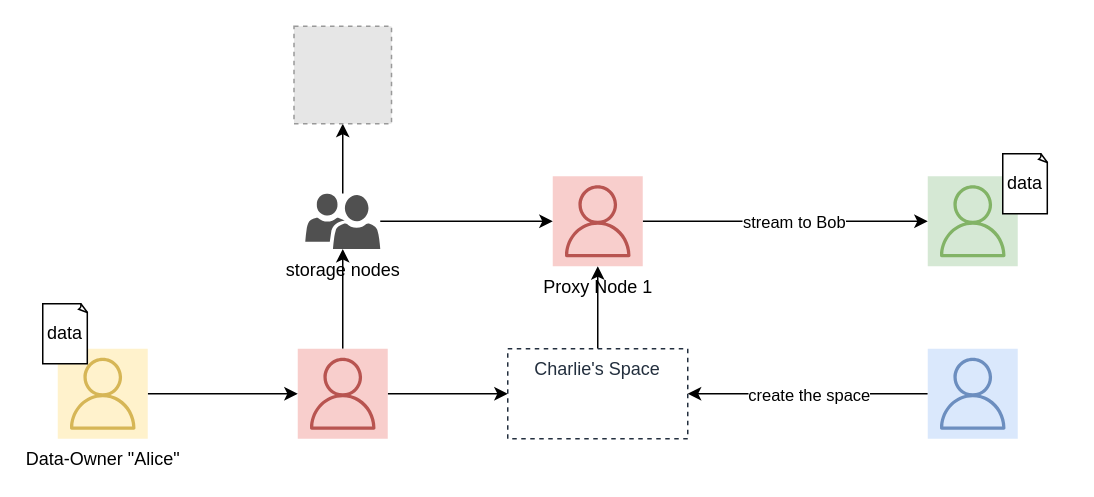
The diagram is 1094 pixels wide and 497 high, and some of its shapes have lost their labels. Grey dashed boxes stand in for pictures. Here are the shapes that lost their labels. From the top down, the box of each, then its label:
(926, 175, 1018, 266): Data-Consumer "Bob"
(296, 347, 388, 439): Proxy Node 0
(926, 347, 1018, 439): Space Creator "Charlie"
